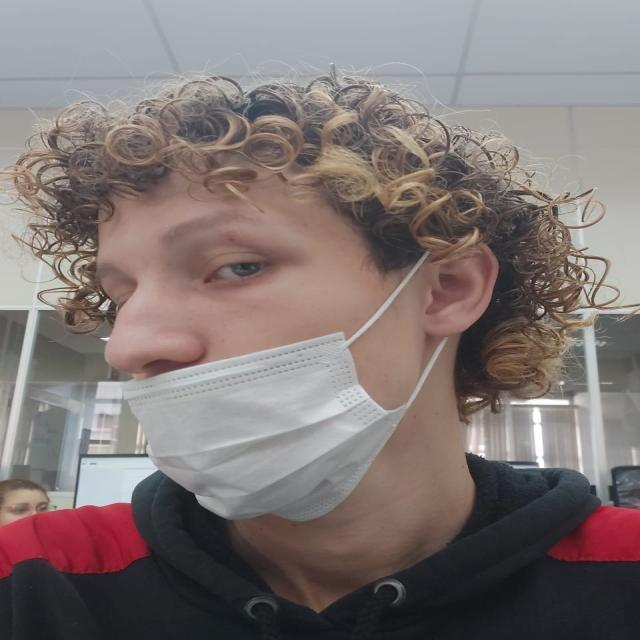hairnet: (83, 182, 450, 510)
